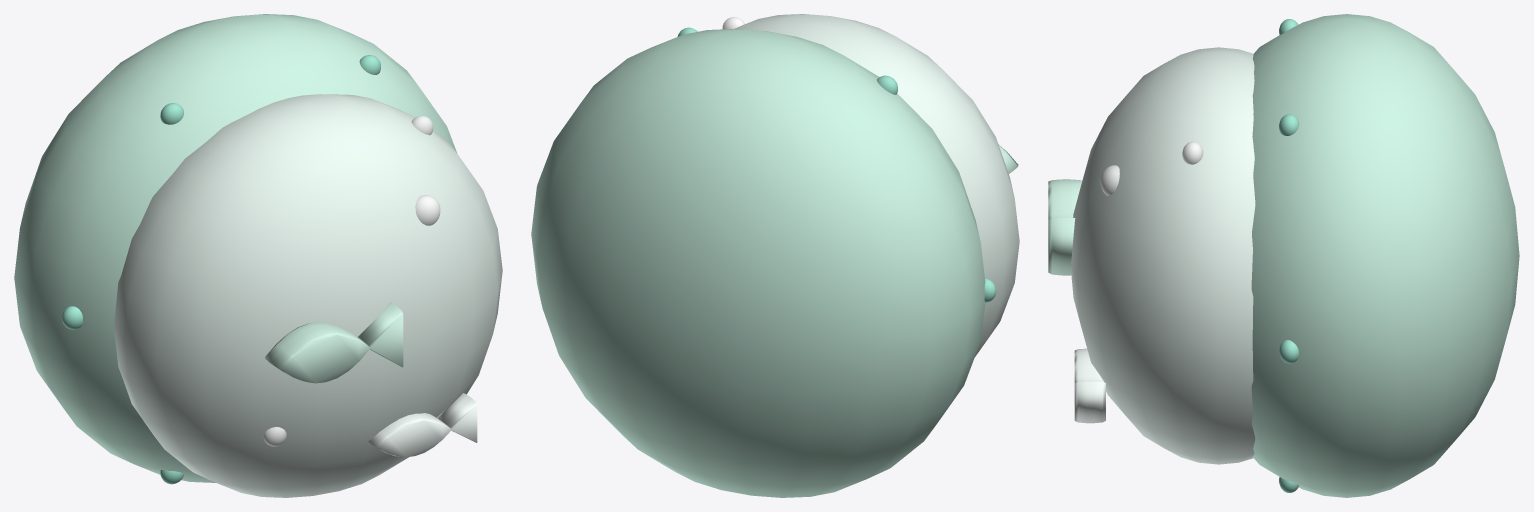
The model's file is decor_2_mint.glb.
3 views of the same model, side by side, from view 1: azimuth 30°, elevation 25°; view 2: azimuth 150°, elevation 25°; view 3: azimuth 270°, elevation 25° (orthographic).
Parts seen in each view (by area): view 1: decor_2_mint; view 2: decor_2_mint; view 3: decor_2_mint.
Part boxes in pixels (<box>): decor_2_mint: <box>14,14,502,497</box>; decor_2_mint: <box>531,14,1019,497</box>; decor_2_mint: <box>1048,14,1519,497</box>.
Size of the model in its own units: 11.6 by 11.6 by 11.29.
